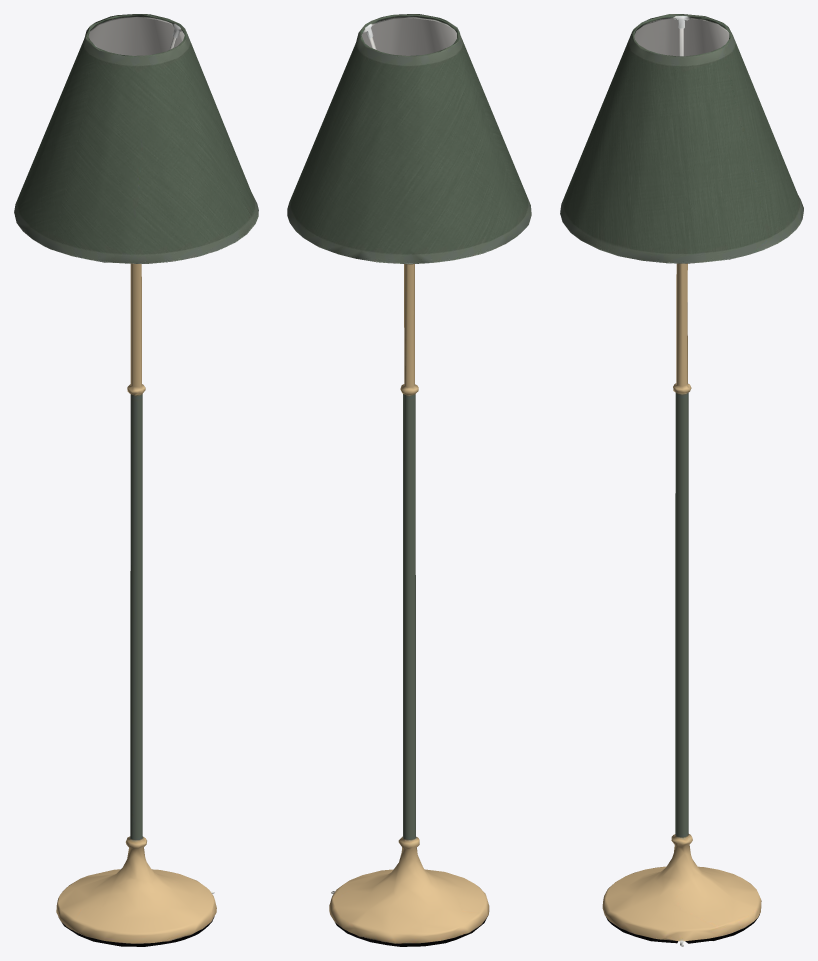
The model's file is flyghojd_lampa_podogowa_30543835.glb.
3 views of the same model, side by side, from view 1: azimuth 30°, elevation 25°; view 2: azimuth 150°, elevation 25°; view 3: azimuth 270°, elevation 25° (orthographic).
Visible parts, largest first — view 1: flyghojd_lampa_podogowa_30543835; view 2: flyghojd_lampa_podogowa_30543835; view 3: flyghojd_lampa_podogowa_30543835.
Part boxes in pixels (left/top/right/bottom): flyghojd_lampa_podogowa_30543835: left=14, top=14, right=258, bottom=946; flyghojd_lampa_podogowa_30543835: left=287, top=14, right=531, bottom=946; flyghojd_lampa_podogowa_30543835: left=560, top=14, right=803, bottom=946.
Size of the model in its own units: 0.3611 by 1.43 by 0.3613.
2 materials, 2 textured.
